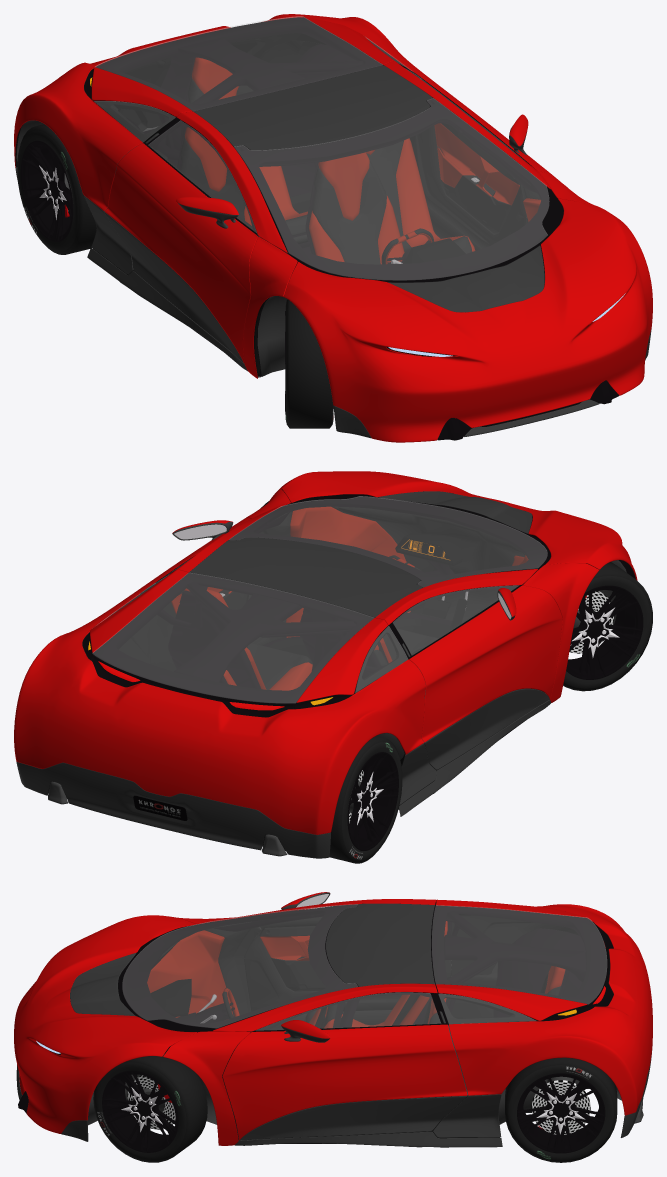
File: concept_hi.glb
3 views of the same model, one above another, from view 1: azimuth 30°, elevation 25°; view 2: azimuth 150°, elevation 25°; view 3: azimuth 270°, elevation 25° (orthographic). The views are drawn at different scales.
Parts seen in each view (by area): view 1: BodyHood, BodyWindshield, BodyRearwindow, BodyDoorRColor1, BodyRearPanelsColor1, BodyWindshieldGasket, BodyRoofPanel, InteriorSeatsColor1, InteriorSeatsColor2, BodyPillars, InteriorPillar, InteriorRearHatch (+20 smaller); view 2: BodyRearPanelsColor1, BodyRearwindow, BodyWindshield, BodyDoorRColor1, BodyPanelsColor2, BodyRoofPanel, BodyHood, InteriorRearHatch, BodyPillars, InteriorPillar, BodyWindshieldGasket, InteriorDashMid (+21 smaller); view 3: BodyWindshield, BodyRearPanelsColor1, BodyDoorLColor1, BodyHood, BodyRearwindow, BodyRoofPanel, BodyPillars, BodyWindshieldGasket, BodyDoorLColor2, BodyPanelsColor2, WheelFrontL, InteriorRearHatch (+24 smaller).
Part boxes in pixels (x1,y1,x2,y2): BodyHood: [283, 198, 652, 442]; BodyWindshield: [234, 98, 549, 280]; BodyRearwindow: [95, 16, 382, 110]; BodyDoorRColor1: [104, 143, 257, 362]; BodyRearPanelsColor1: [14, 14, 428, 210]; BodyWindshieldGasket: [234, 99, 563, 282]; BodyRoofPanel: [193, 65, 432, 150]; InteriorSeatsColor1: [185, 57, 475, 264]; InteriorSeatsColor2: [180, 78, 472, 264]; BodyPillars: [176, 61, 598, 378]; InteriorPillar: [158, 37, 434, 168]; InteriorRearHatch: [93, 17, 383, 117]; BodyRearPanelsColor1: [14, 569, 425, 834]; BodyRearwindow: [92, 573, 373, 703]; BodyWindshield: [229, 496, 547, 587]; BodyDoorRColor1: [409, 585, 562, 742]; BodyPanelsColor2: [16, 700, 550, 858]; BodyRoofPanel: [189, 537, 422, 617]; BodyHood: [279, 471, 637, 580]; InteriorRearHatch: [93, 573, 386, 707]; BodyPillars: [175, 489, 599, 702]; InteriorPillar: [174, 574, 417, 682]; BodyWindshieldGasket: [230, 495, 550, 587]; InteriorDashMid: [331, 503, 528, 622]; BodyWindshield: [122, 904, 357, 1028]; BodyRearPanelsColor1: [436, 899, 652, 1115]; BodyDoorLColor1: [222, 1024, 467, 1139]; BodyHood: [14, 915, 196, 1133]; BodyRearwindow: [432, 905, 606, 1003]; BodyRoofPanel: [326, 903, 434, 986]; BodyPillars: [163, 899, 437, 1145]; BodyWindshieldGasket: [118, 905, 357, 1032]; BodyDoorLColor2: [240, 1096, 467, 1140]; BodyPanelsColor2: [16, 1050, 652, 1147]; WheelFrontL: [93, 1054, 207, 1162]; InteriorRearHatch: [431, 905, 606, 1020].
Bounding box in the file's own units: 2.54 × 1.15 × 4.36.
23 materials, 6 textured.
